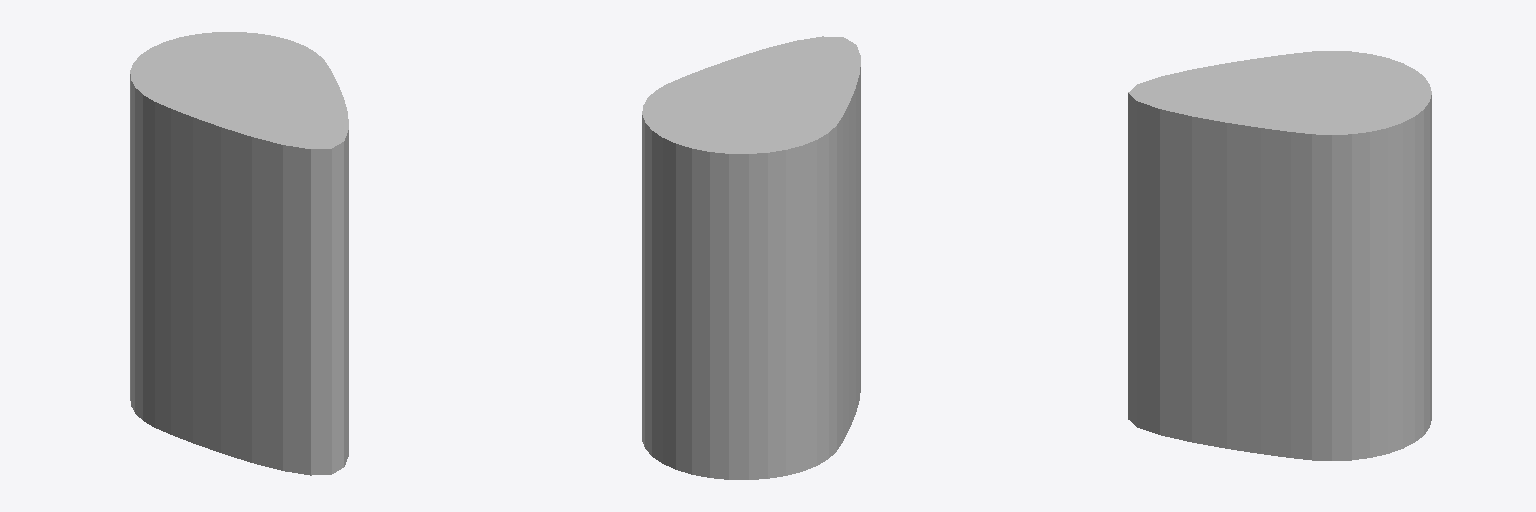
File: geo_unit.obj
The picture shows the model from 3 angles: view 1: azimuth 30°, elevation 25°; view 2: azimuth 150°, elevation 25°; view 3: azimuth 270°, elevation 25°; orthographic projection.
Parts seen in each view (by area): view 1: Cylinder; view 2: Cylinder; view 3: Cylinder.
Part boxes in pixels (x1,y1,x2,y2): Cylinder: (130, 32, 348, 475); Cylinder: (642, 36, 860, 479); Cylinder: (1128, 51, 1431, 460).
Size of the model in its own units: 1 by 1.8 by 1.52.